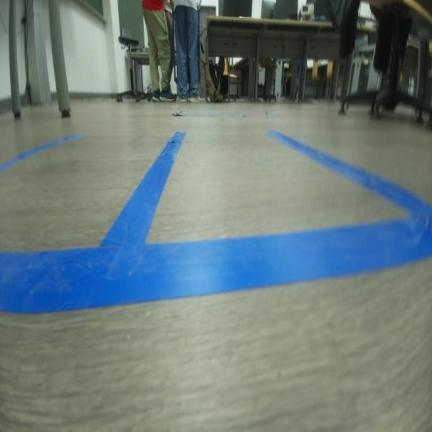place: (67, 128, 431, 311), (0, 128, 188, 313)
